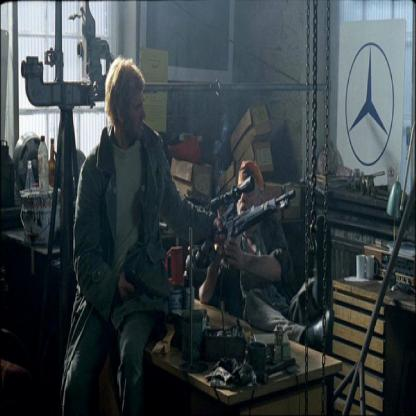Guns: (200, 174, 295, 260), (122, 265, 156, 301)
